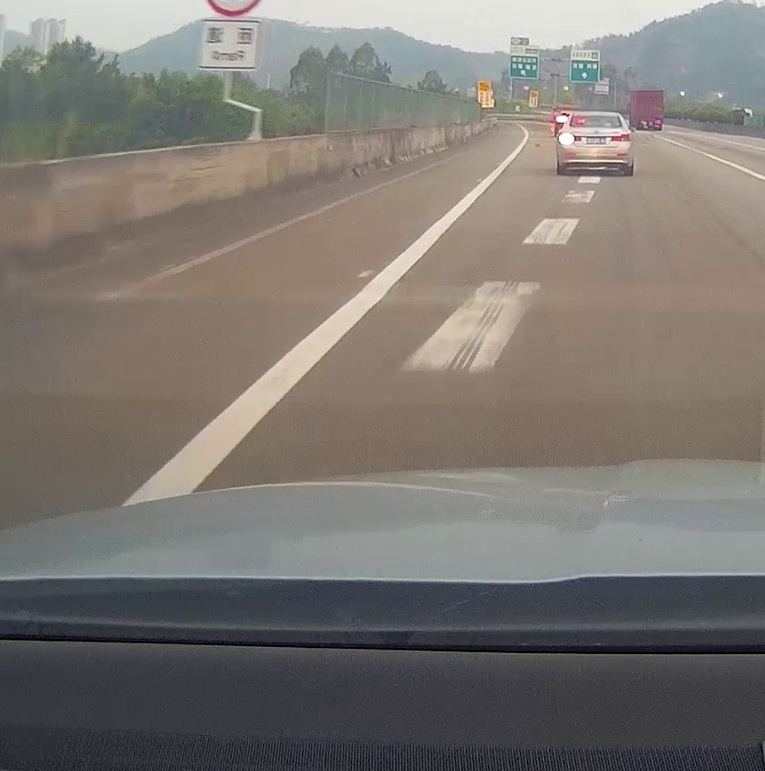L_light: (559, 132, 581, 145)
R_light: (610, 134, 631, 141)
T_light: (589, 122, 601, 126)
day-left: (556, 111, 634, 176)
